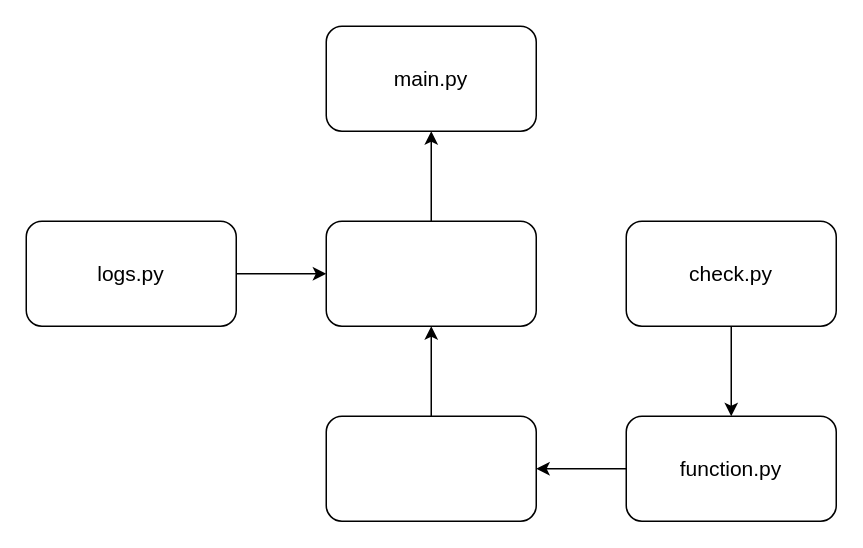
This 863x548 diagram has some shape labels left out. Each missing label, with the centre of its shape:
"controller.py" goes at pixel 430 273.
"user_interface.py" goes at pixel 430 468.
